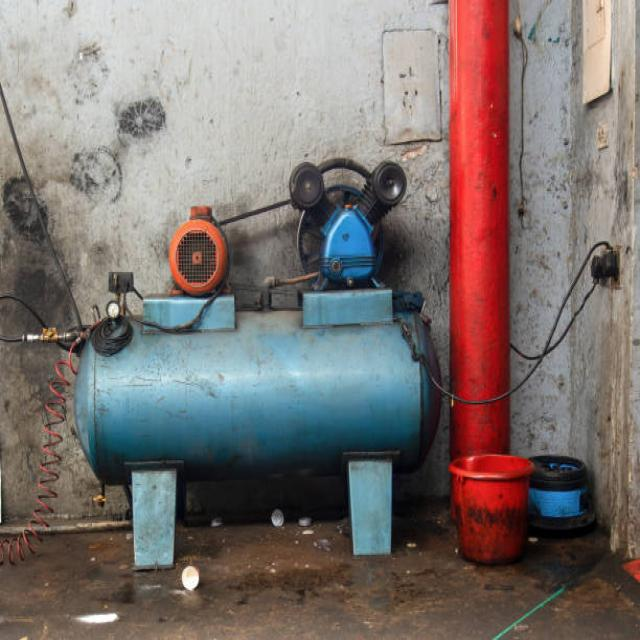compressor: (72, 138, 436, 569), (0, 432, 2, 524)
corrosion detected: (285, 155, 409, 293), (165, 202, 231, 300), (86, 268, 142, 360)
